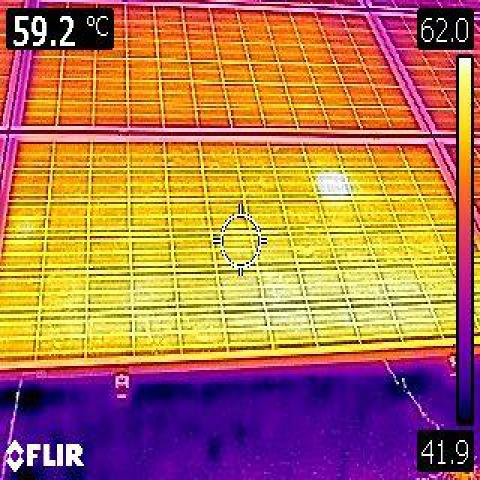fault: (314, 170, 348, 200)
